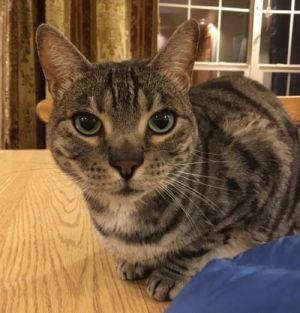bengal: (27, 17, 205, 205)
